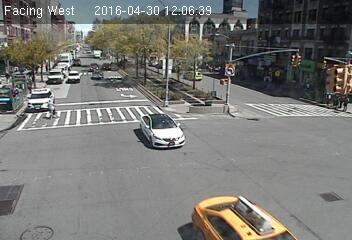neg: (62, 124, 93, 164), (203, 68, 233, 108), (117, 161, 146, 200), (149, 58, 176, 94), (7, 182, 34, 218), (195, 151, 219, 183), (108, 61, 132, 92), (73, 69, 95, 98), (275, 114, 297, 143), (86, 182, 107, 210), (258, 67, 279, 94), (291, 178, 310, 205), (278, 23, 297, 49), (159, 115, 178, 140), (35, 54, 51, 76), (10, 131, 26, 152), (42, 100, 58, 120), (103, 32, 117, 51), (70, 32, 83, 49), (305, 38, 317, 54), (202, 27, 213, 41)
pos: (331, 93, 345, 112), (321, 91, 332, 106)
